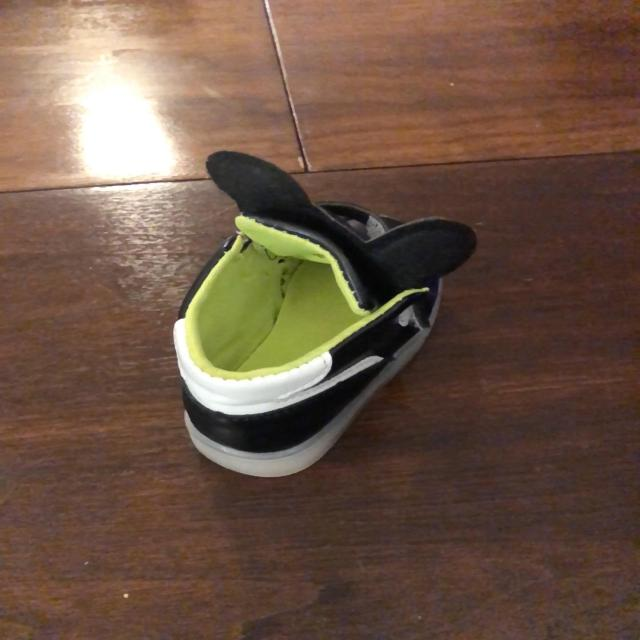shoe: (173, 151, 479, 479)
